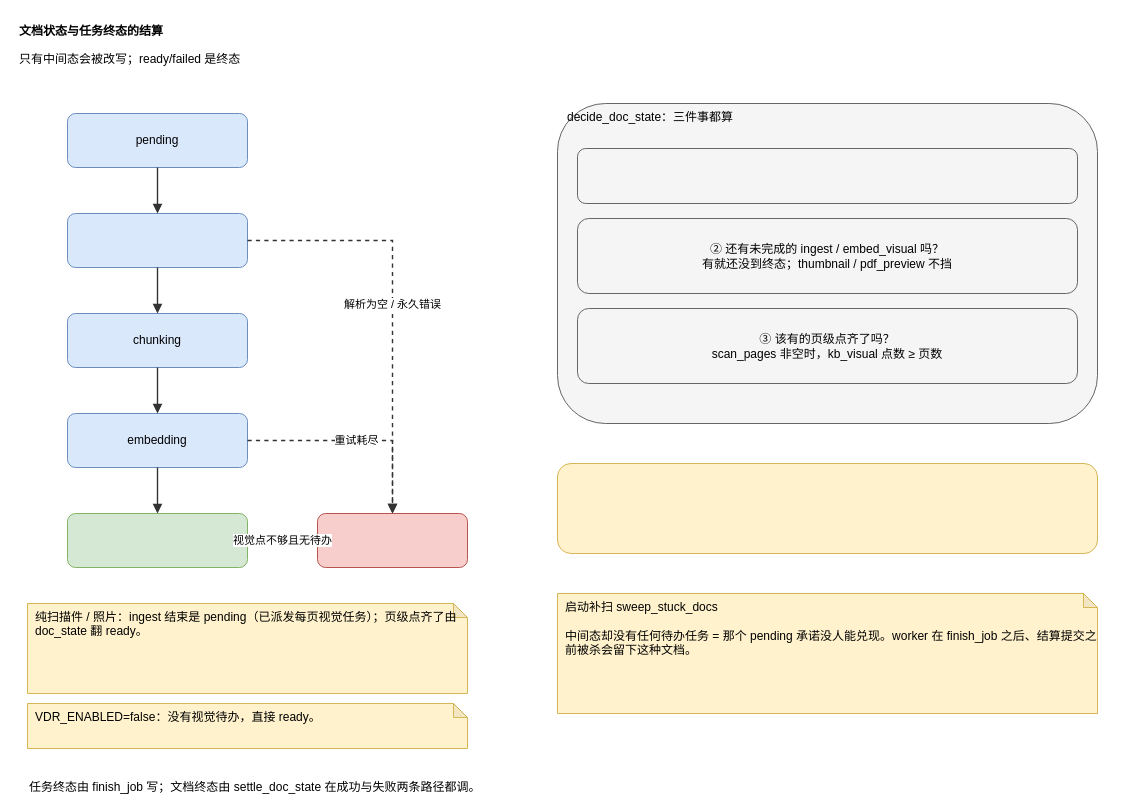
The diagram is 1134 pixels wide and 811 high, and some of its shapes have lost their labels. The centre of each missing label's shape, as x and y in pixels:
"failed" goes at [392,540].
"parsing" goes at [157,240].
"ready" goes at [157,540].
"① 文档还在中间态吗？ 终态（含 failed）不动" goes at [827,176].
"结论：ready（点齐） / failed（摄取失败或点不够且无待办） scan_pages=NULL 的老文档只在视觉任务全失败时判 failed" goes at [827,508].
